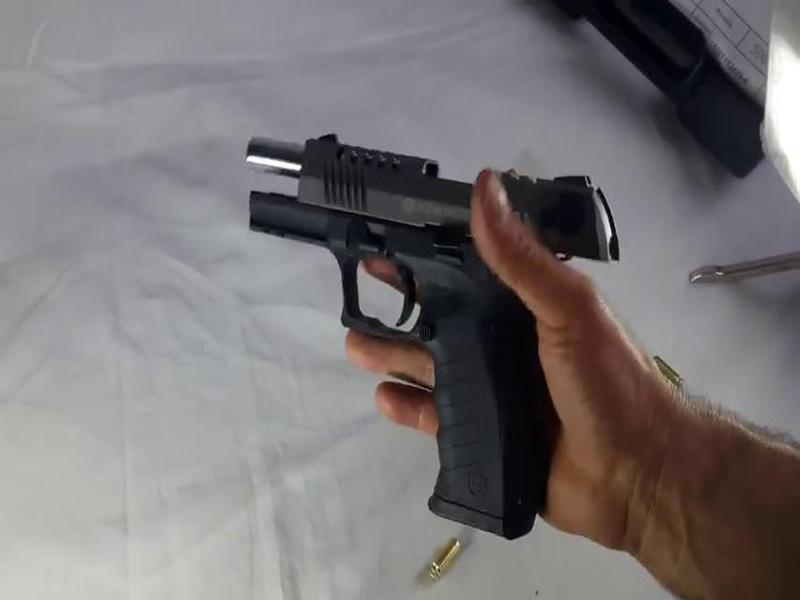Pistola: (230, 126, 649, 554)
